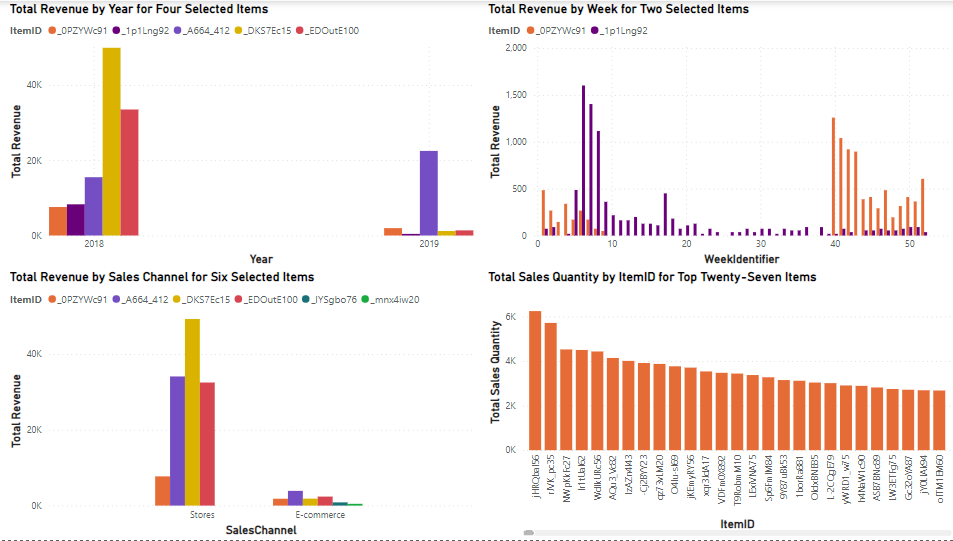

The dashboard page shown, as its layout file describes it:
{"tool":"powerbi","page":{"name":"Page 3","canvas":[1280,720],"ordinal":2},"visuals":[{"type":"clusteredColumnChart","title":"Total Revenue by Year for Four Selected Items","fields":{"Y":["factSales.Total Revenue"],"Category":["dimDates.Year"],"Series":["factSales.ItemID"]},"box":[10.3,0,629.6,358.8],"z":0},{"type":"clusteredColumnChart","title":"Total Sales Quantity by ItemID for Top Twenty-Seven Items","fields":{"Category":["factSales.ItemID"],"Y":["factSales.Total Sales Quantity"]},"box":[650.3,358.8,629.6,360.5],"z":1000},{"type":"clusteredColumnChart","title":"Total Revenue by Sales Channel for Six Selected Items","fields":{"Y":["factSales.Total Revenue"],"Category":["dimChannels.SalesChannel"],"Series":["factSales.ItemID"]},"box":[10.3,358.8,629.6,360.5],"z":2000},{"type":"clusteredColumnChart","title":"Total Revenue by Week for Two Selected Items","fields":{"Y":["factSales.Total Revenue"],"Category":["dimDates.WeekIdentifier"],"Series":["factSales.ItemID"]},"box":[650.3,0,629.6,358.8],"z":3000}]}

Visuals, with their boxes in screenshot pixels (x1, y1, x2, y2), scaled from the page's 1280x720 canvas onto the 953x541 screenshot:
"Total Revenue by Year for Four Selected Items" clusteredColumnChart: x1=8, y1=0, x2=476, y2=270
"Total Sales Quantity by ItemID for Top Twenty-Seven Items" clusteredColumnChart: x1=484, y1=270, x2=952, y2=540
"Total Revenue by Sales Channel for Six Selected Items" clusteredColumnChart: x1=8, y1=270, x2=476, y2=540
"Total Revenue by Week for Two Selected Items" clusteredColumnChart: x1=484, y1=0, x2=952, y2=270
